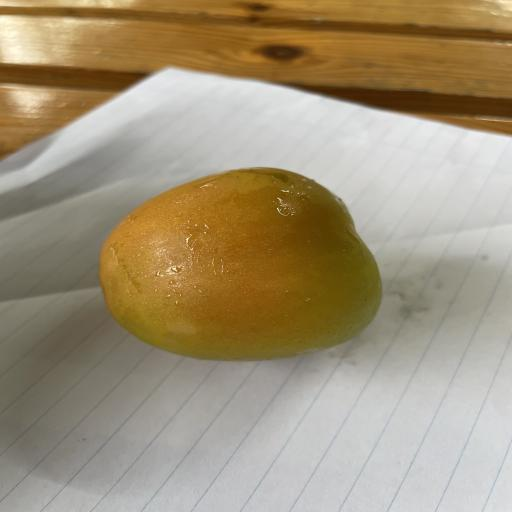unripe: (100, 168, 381, 361)
